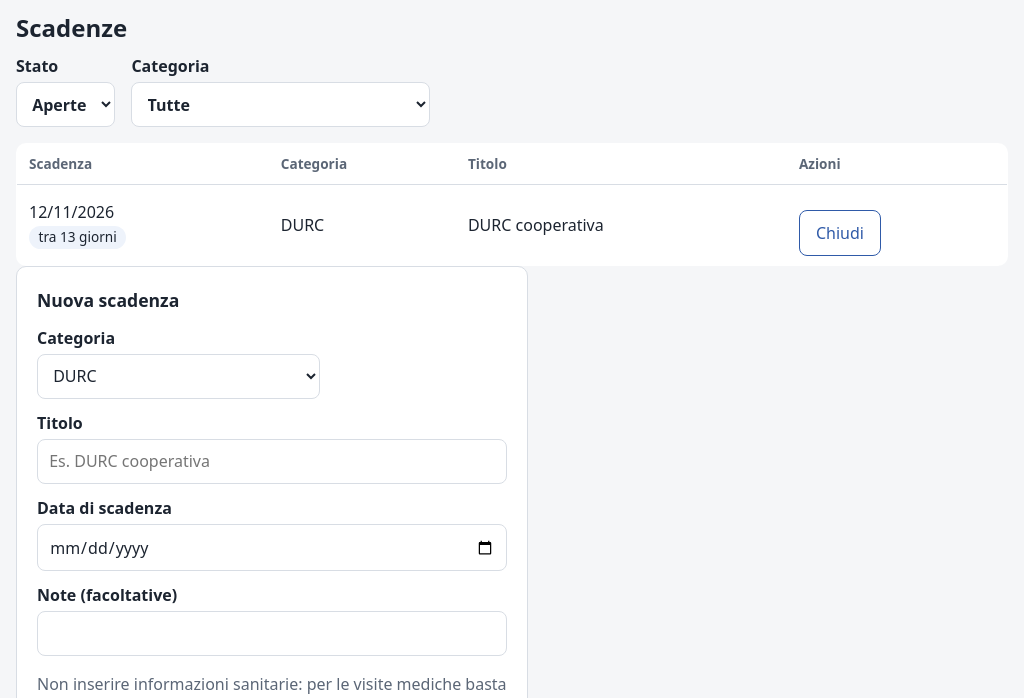
Test: deadlines (FE3) › adds a deadline and closes one after a confirmation
The width and height of the screenshot is (1024, 698).
Select "Patentino" in the dropdown labelled "Categoria" below "Nuova scadenza" at [179, 376], box 37,354 -> 320,399
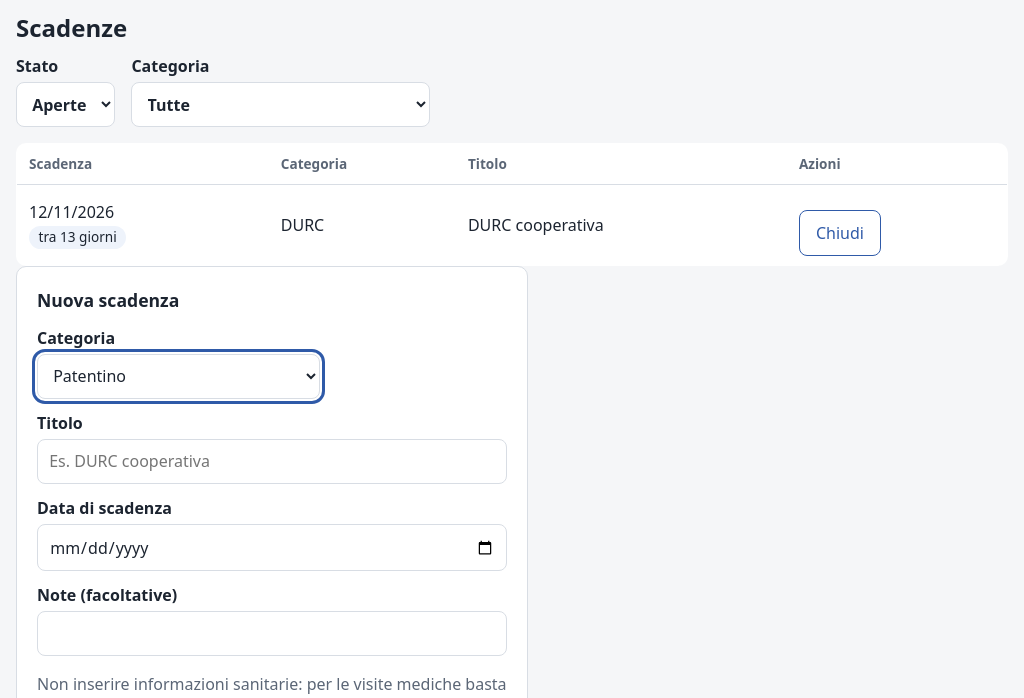
Type "Patentino muletto" into the field labelled "Titolo" at [272, 461], box 37,439 -> 507,484
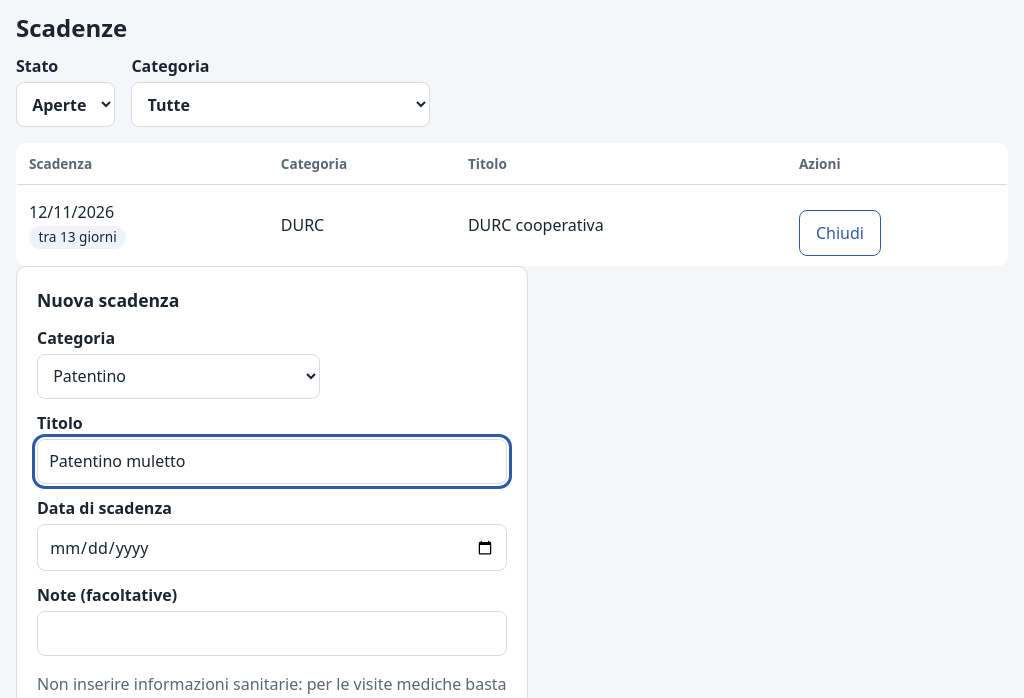
Type "2027-03-31" into the date field labelled "Data di scadenza" at [272, 548], box 37,524 -> 507,571
(page scrolled)
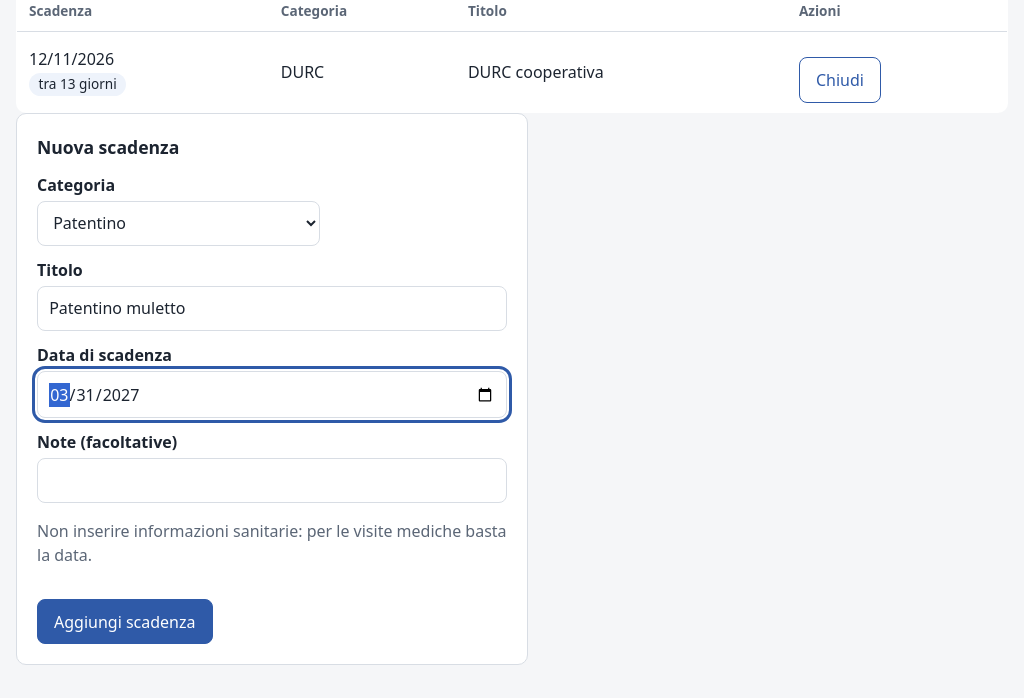
Click the button "Aggiungi scadenza" at [125, 622], box 37,599 -> 212,644
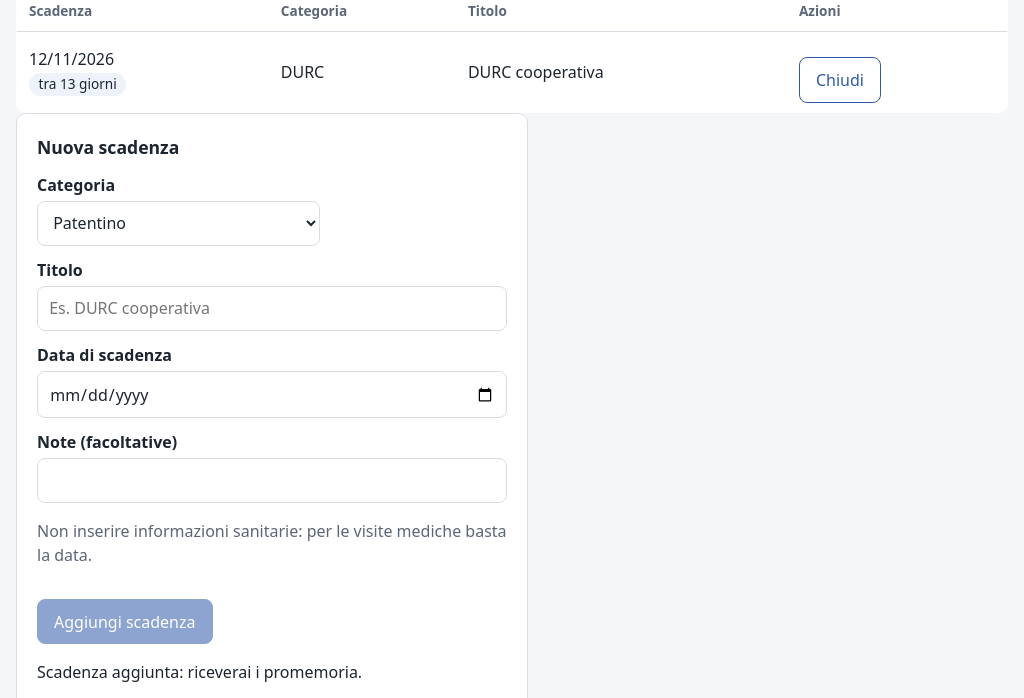
Expected: the text "Scadenza aggiunta: riceverai i promemoria." is shown, 37,662 -> 362,684
Click the button "Chiudi" at [840, 80], box 799,57 -> 881,103
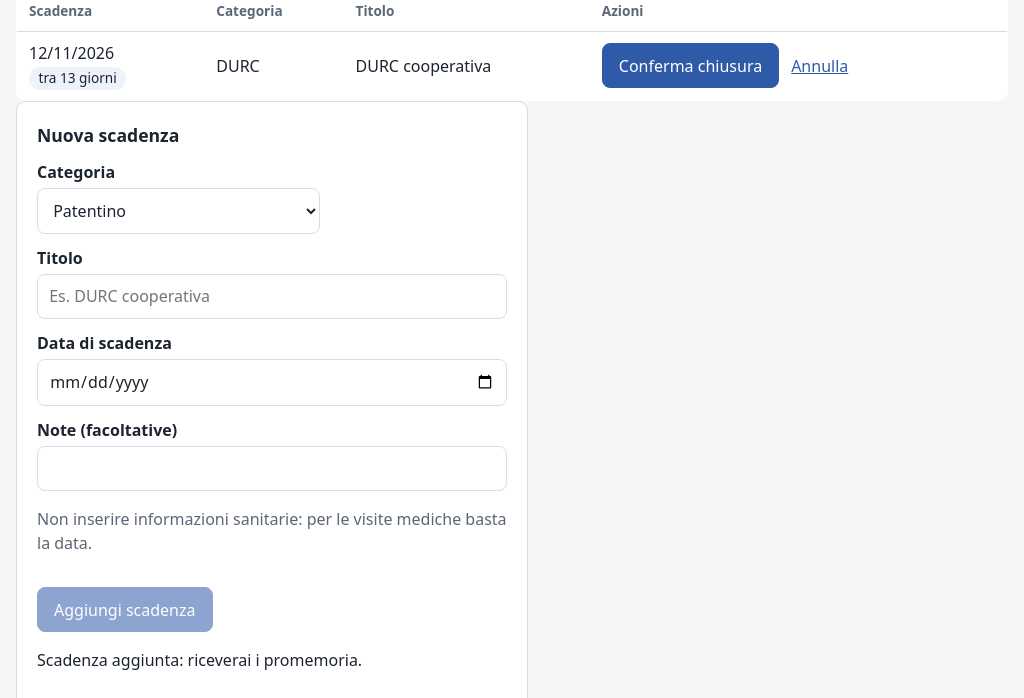
Click the button "Conferma chiusura" at [690, 66], box 602,43 -> 779,88
(page scrolled)
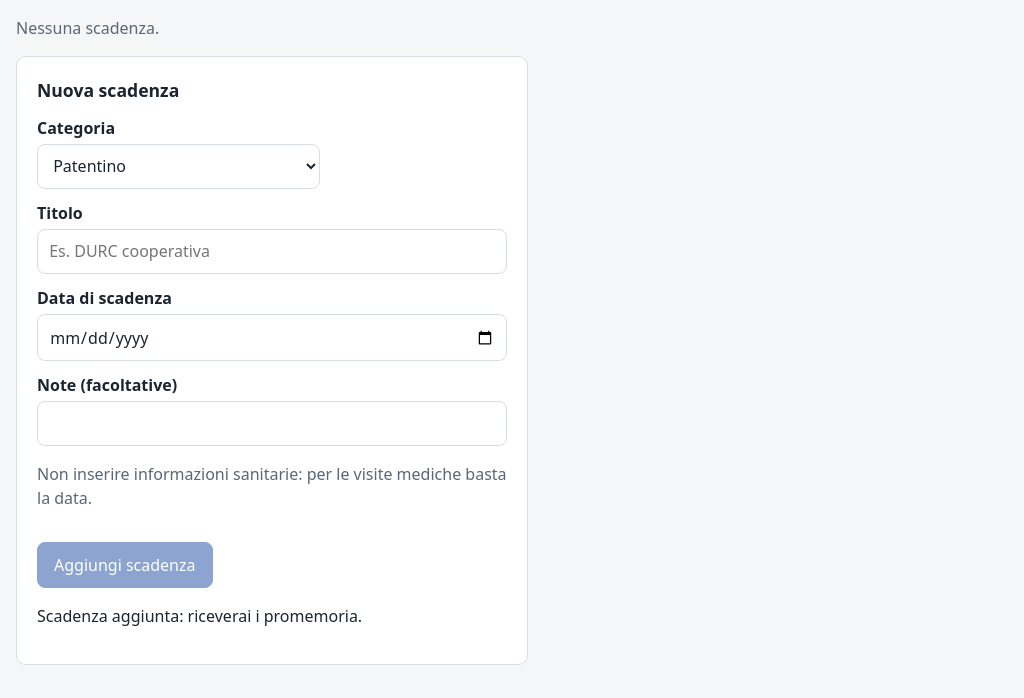
Expected: the text "Nessuna scadenza." is shown, 16,17 -> 159,39
